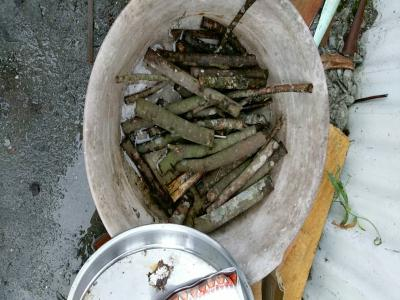plate: (78, 2, 331, 285), (63, 220, 259, 300)
